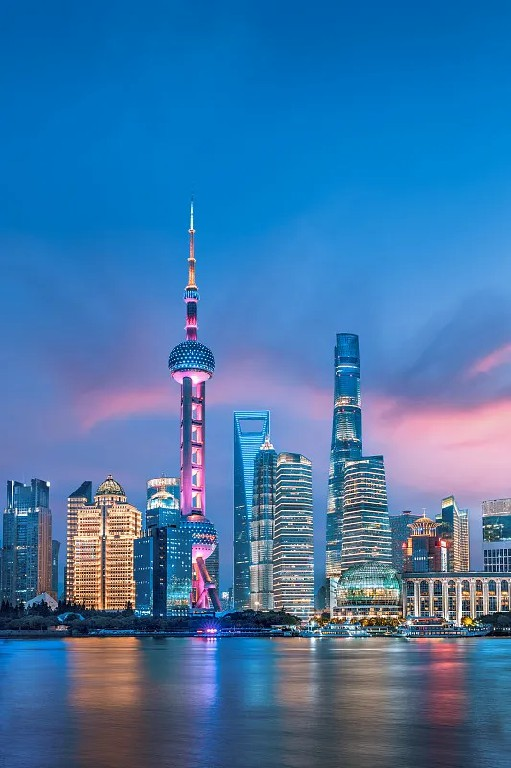Oriental: (168, 196, 224, 611)
